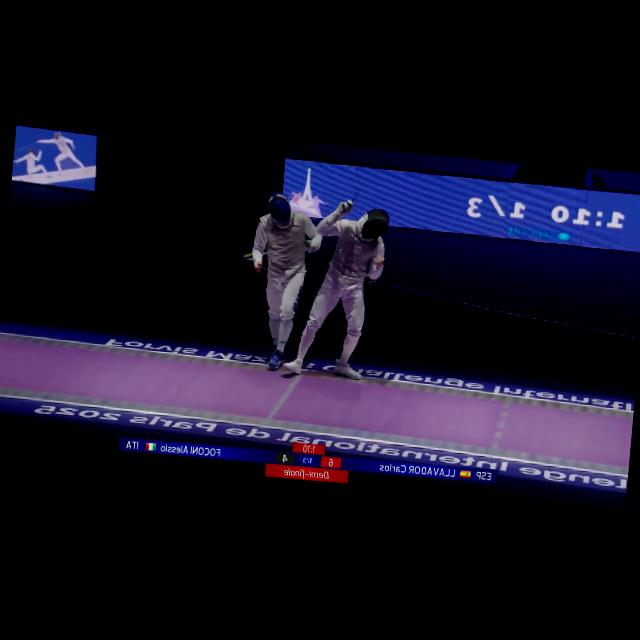blade: (338, 142, 397, 211), (242, 232, 312, 266)
